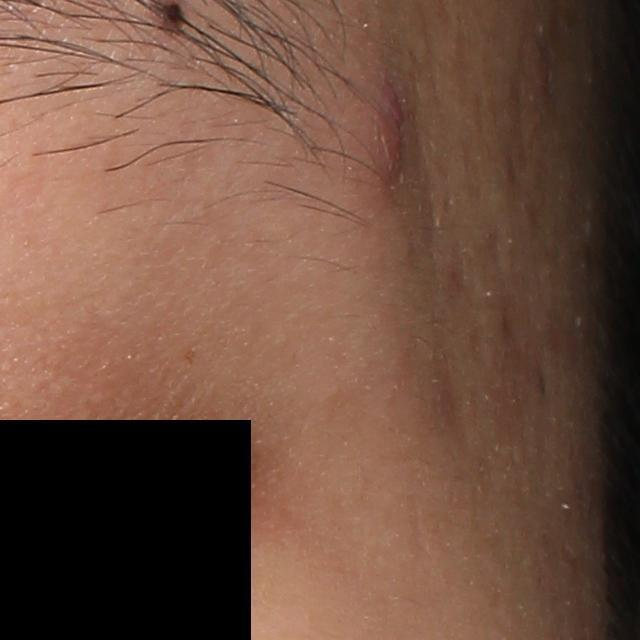melasma: (181, 349, 199, 367)
papule: (374, 76, 409, 177)
